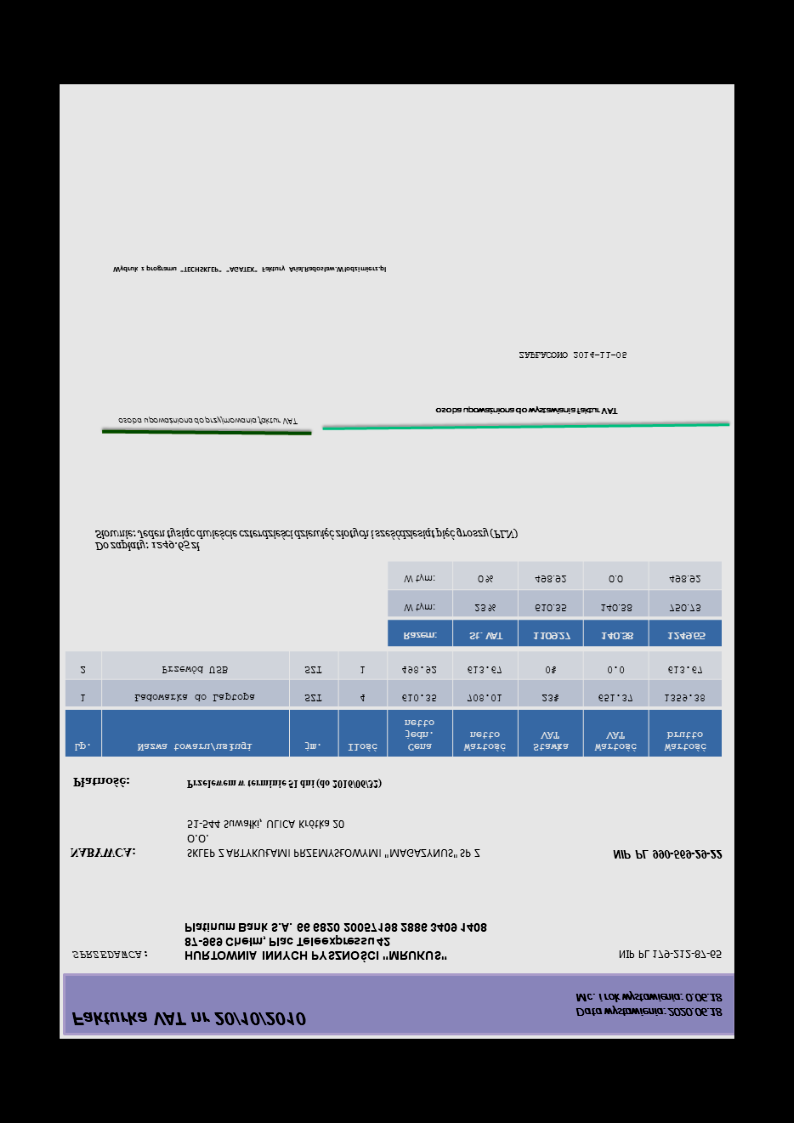Table: (63, 649, 723, 759), (386, 560, 723, 649)
TextBox: (182, 918, 490, 965), (186, 817, 480, 860), (92, 525, 520, 554), (69, 1008, 308, 1029), (572, 991, 728, 1020), (111, 264, 390, 276), (184, 777, 383, 791), (116, 414, 299, 428), (432, 405, 619, 417), (611, 847, 723, 863), (615, 947, 722, 963), (517, 349, 628, 361), (68, 949, 150, 962), (68, 846, 137, 860), (72, 775, 131, 791)
